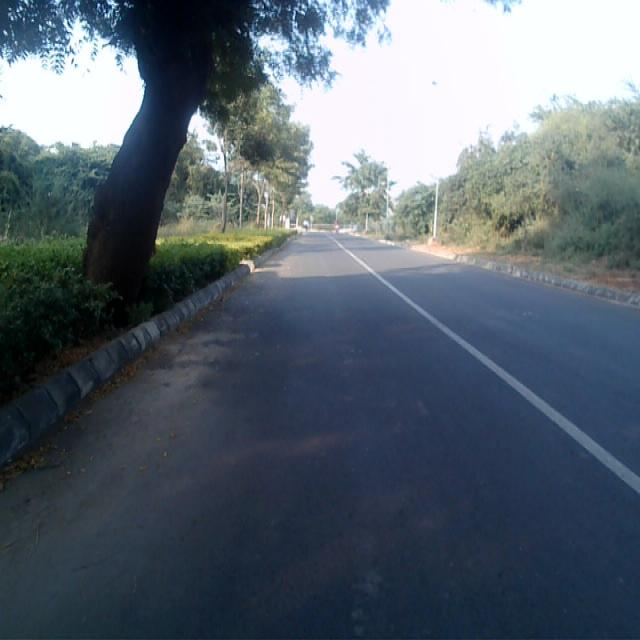lane: (0, 236, 640, 640)
